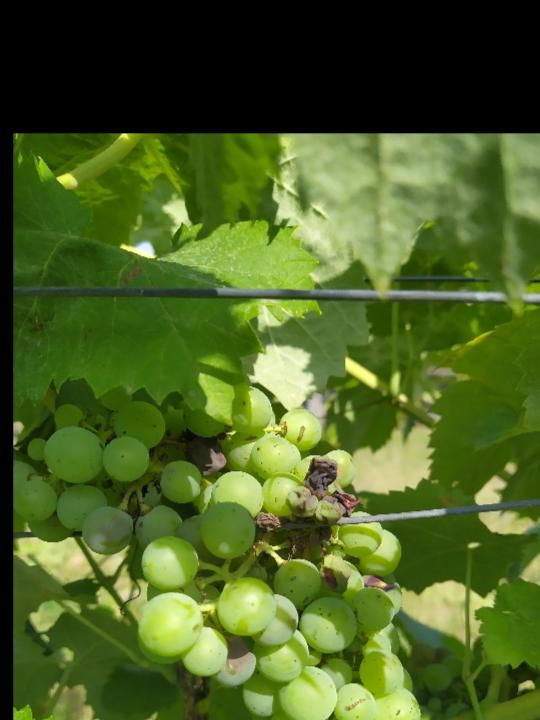grape: (17, 387, 430, 720)
